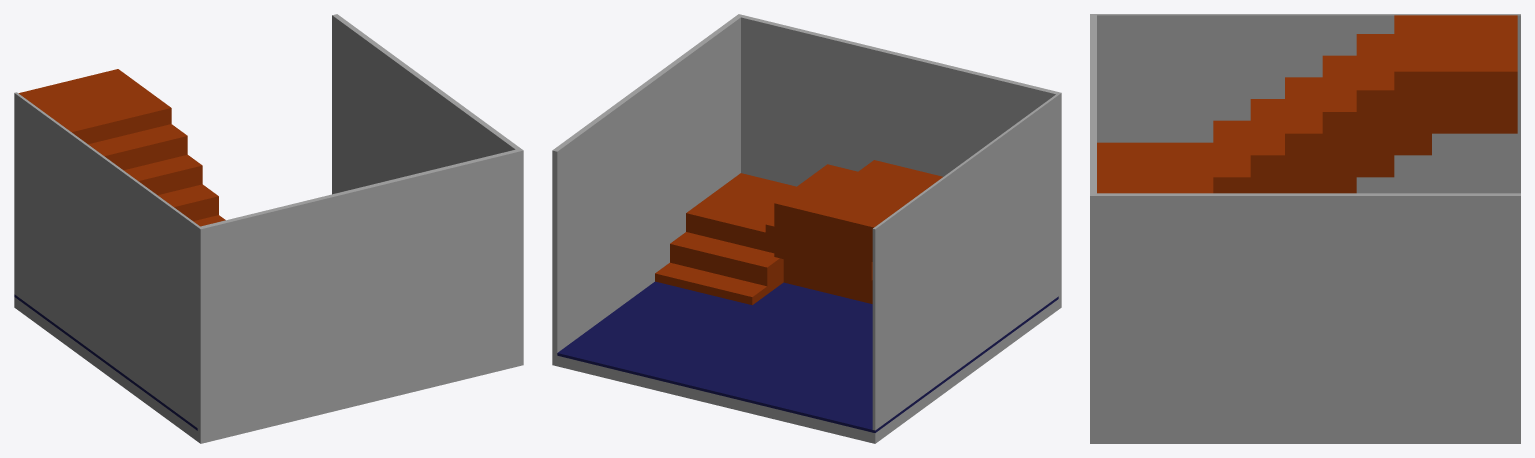
The model's file is 4x2 first (1)-7.obj.
3 views of the same model, side by side, from view 1: azimuth 30°, elevation 25°; view 2: azimuth 150°, elevation 25°; view 3: azimuth 270°, elevation 25° (orthographic). The views are drawn at different scales.
Parts seen in each view (by area): view 1: 4x2 first (1)-7; view 2: 4x2 first (1)-7; view 3: 4x2 first (1)-7.
Boxes of the visible parts, bbox=[...] form: 4x2 first (1)-7: bbox=[14, 14, 523, 443]; 4x2 first (1)-7: bbox=[552, 14, 1061, 443]; 4x2 first (1)-7: bbox=[1090, 14, 1520, 443].
Bounding box in the file's own units: 126 × 80 × 126.
1 material, 1 textured.
